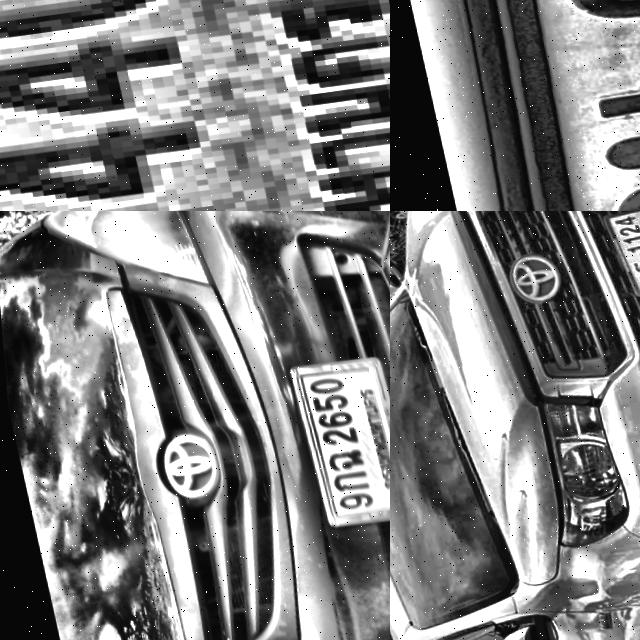license-plate: (0, 0, 390, 211), (390, 0, 640, 211), (277, 352, 390, 530), (596, 211, 640, 302)
